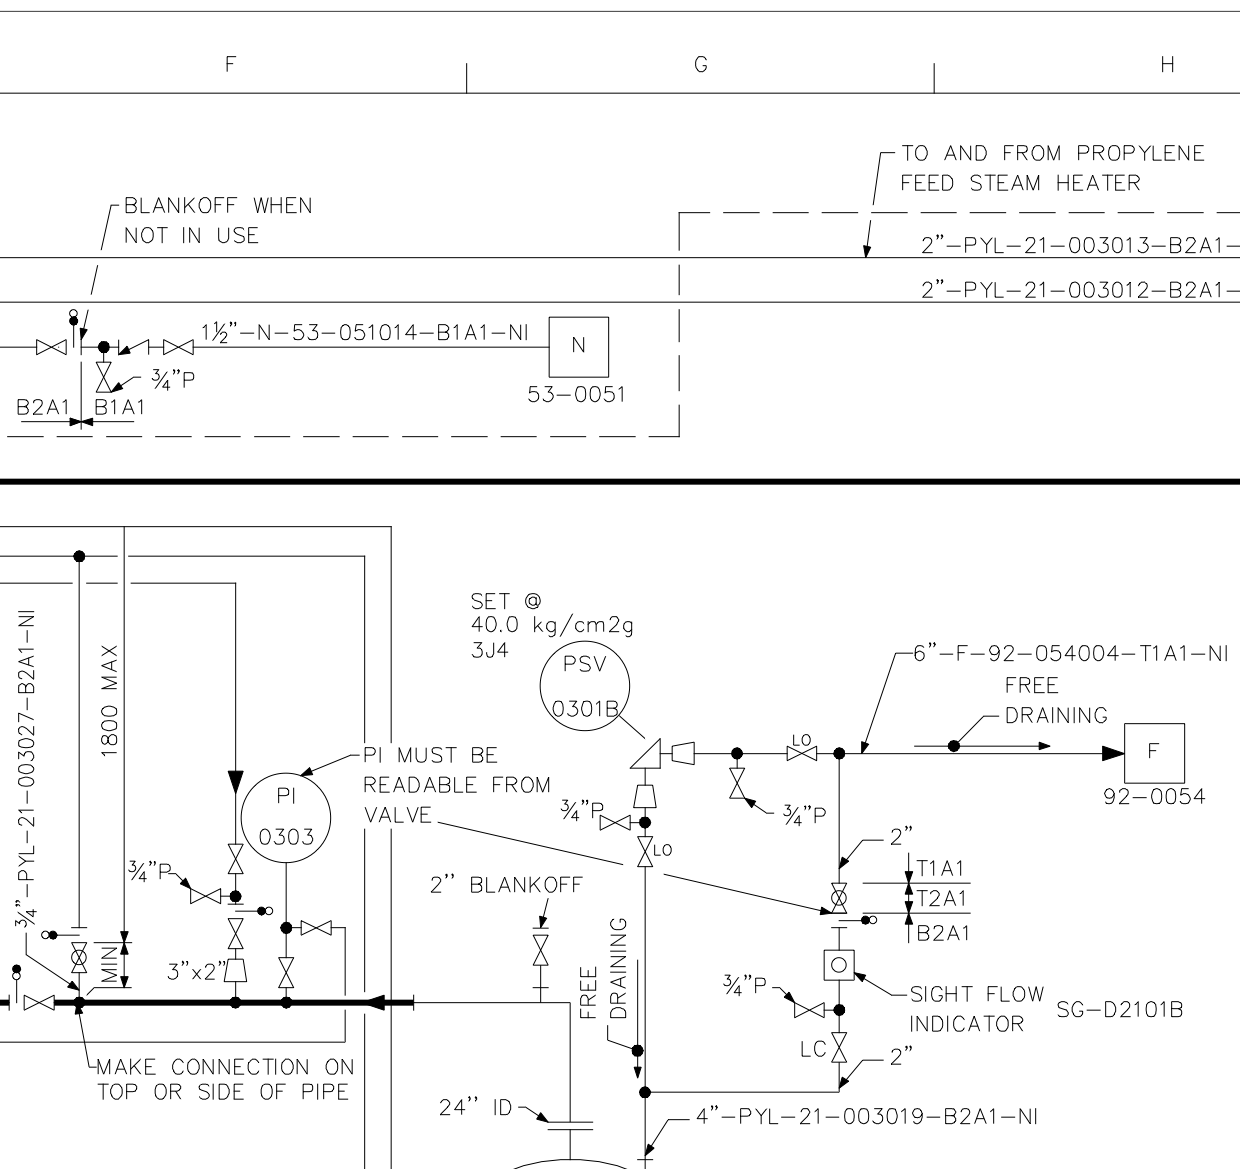Ball Valve: (72, 940, 89, 978)
Check Valve: (112, 334, 154, 359)
Line Number: (694, 1100, 1042, 1131), (198, 315, 534, 345), (912, 639, 1236, 668), (13, 608, 41, 935)
PSV: (623, 728, 668, 778)
Spetacle Blind: (36, 924, 93, 948), (224, 899, 275, 923), (64, 307, 83, 361)
